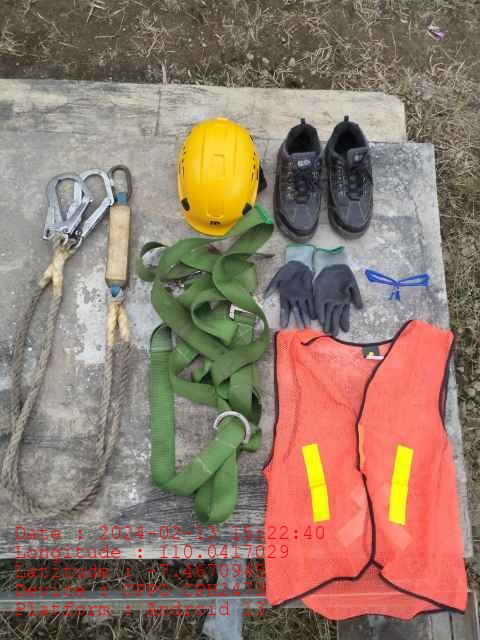HELM: (177, 118, 258, 237)
SARUNG_TANGAN: (312, 244, 365, 338), (264, 244, 315, 327)
SEPATU: (273, 119, 373, 246)
TAMBANG_SLING: (1, 165, 133, 518)
